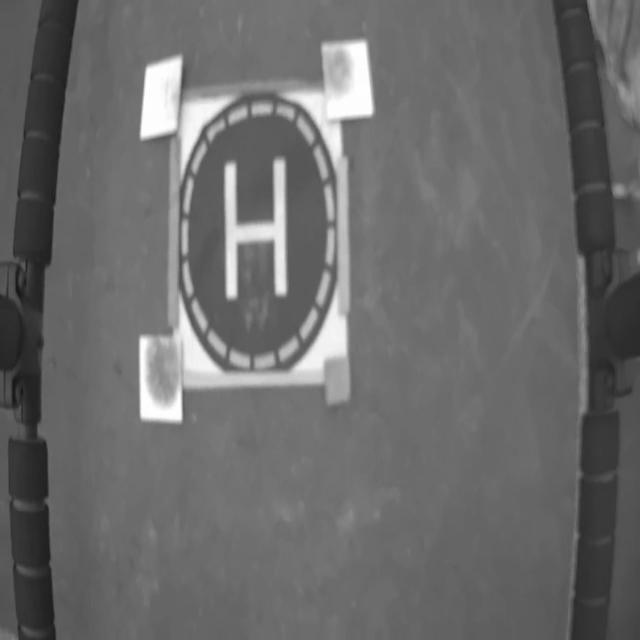Helipad: (224, 156, 289, 303)
